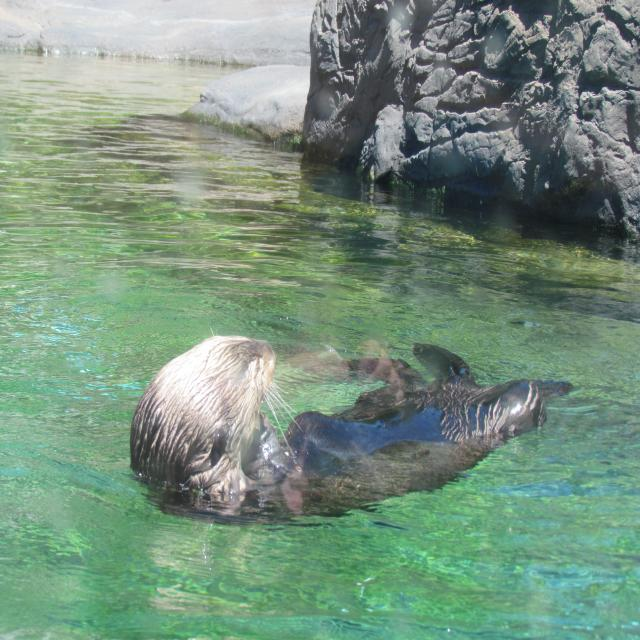otter: (133, 330, 546, 500)
